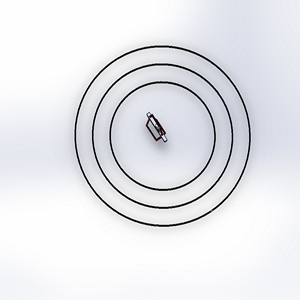circle: (65, 42, 257, 232)
submarine: (139, 107, 174, 151)
